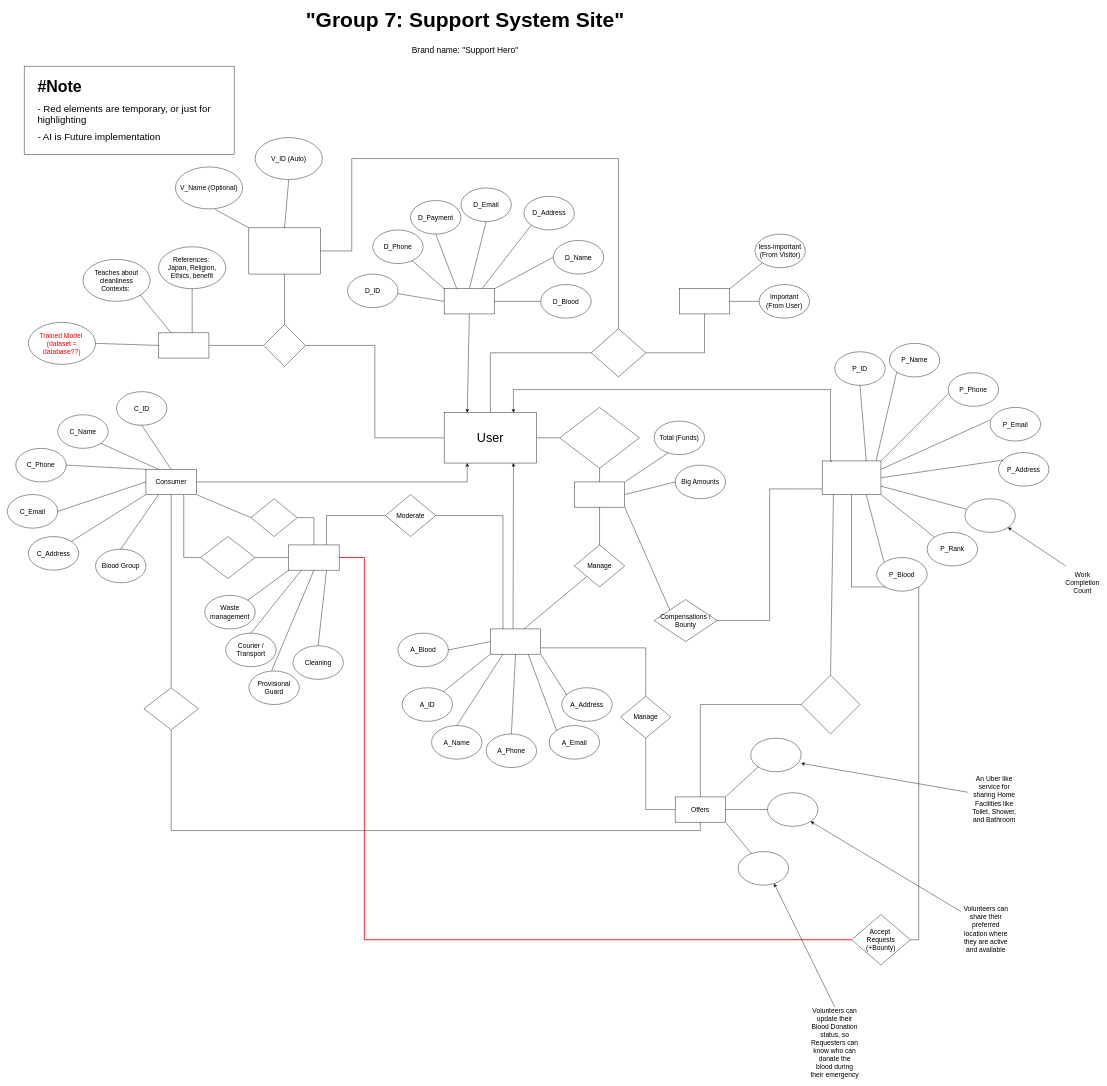
The diagram is 1107 pixels wide and 1086 high, and some of its shapes have lost their labels. The shapes that lost their labels are listed below. From the top down, each one's centre as x and y in pixels, then its label:
[284,250]: Visitor
[469,301]: Donor
[704,301]: Feedback
[183,345]: AI Assist
[284,345]: AI Chat
[618,352]: Provide
[599,437]: Donates (Requires Donor ID)
[599,494]: Donations
[851,478]: Volunteer / Service Provider
[274,517]: Add Bounty
[990,515]: P_Record
[227,557]: Requests
[313,557]: Service
[515,641]: Admin
[170,708]: Accepts
[830,704]: Provides
[775,755]: Home Facilities Sharing
[792,809]: Preferred Locations
[763,868]: Available for Blood Donation
